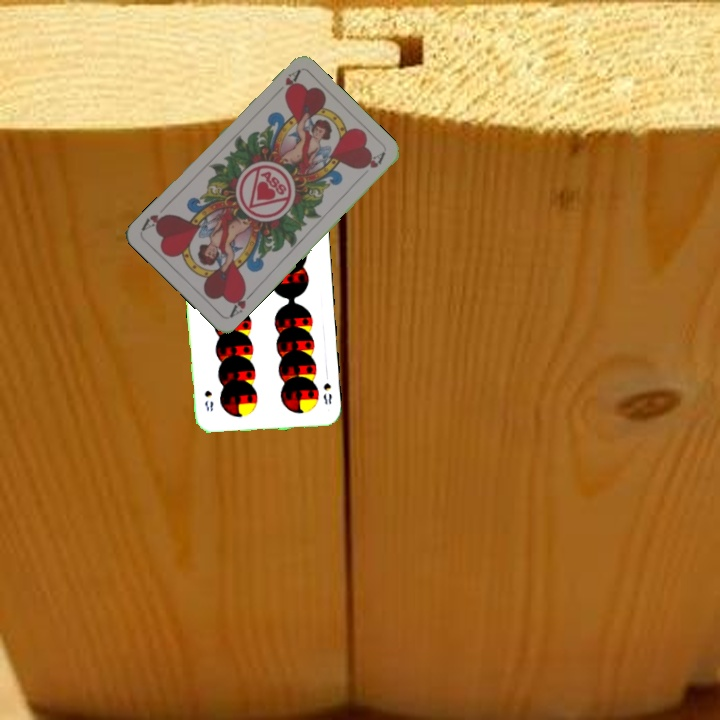HA: (225, 285, 257, 320), (269, 67, 303, 98)
S8: (319, 379, 334, 407)
